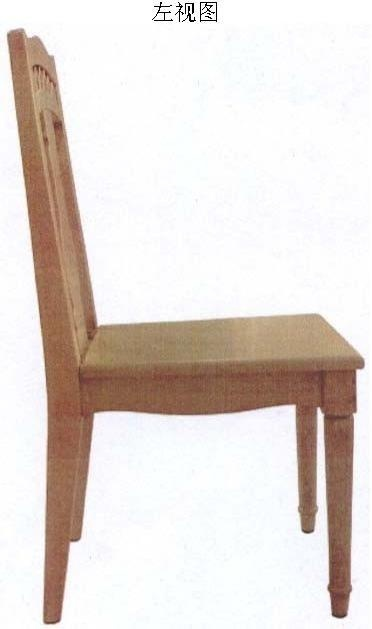obstacle: (8, 30, 362, 622)
